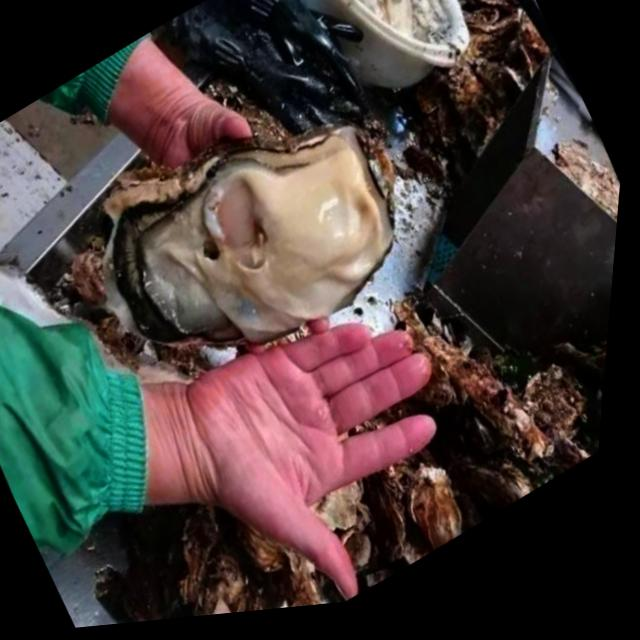Oyster-Open: (64, 54, 449, 422)
